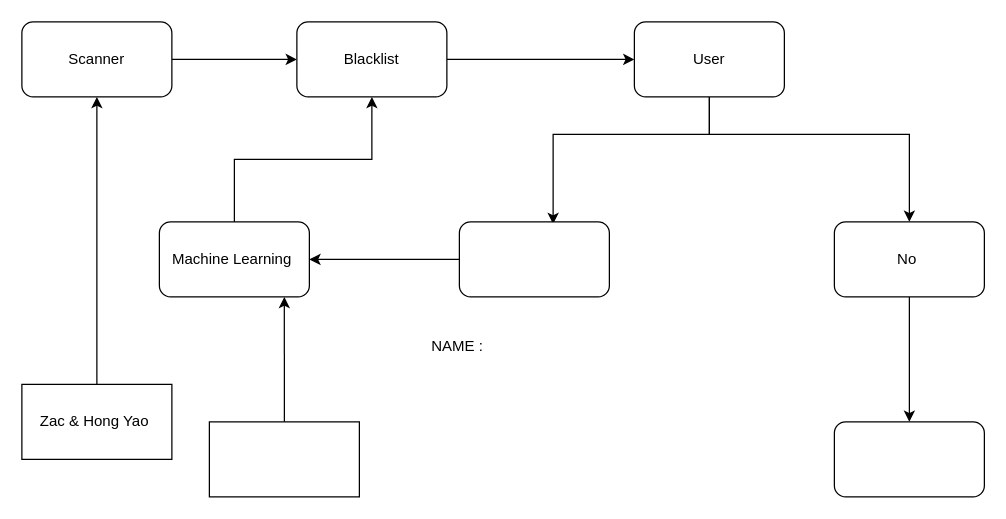
This 1006x519 diagram has some shape labels left out. Here are the shapes that lost their labels. From the top down, the box of each, then its label:
(458, 221, 609, 297): Yes
(208, 421, 359, 497): Mik & Aniq
(833, 421, 984, 497): Whitelist
